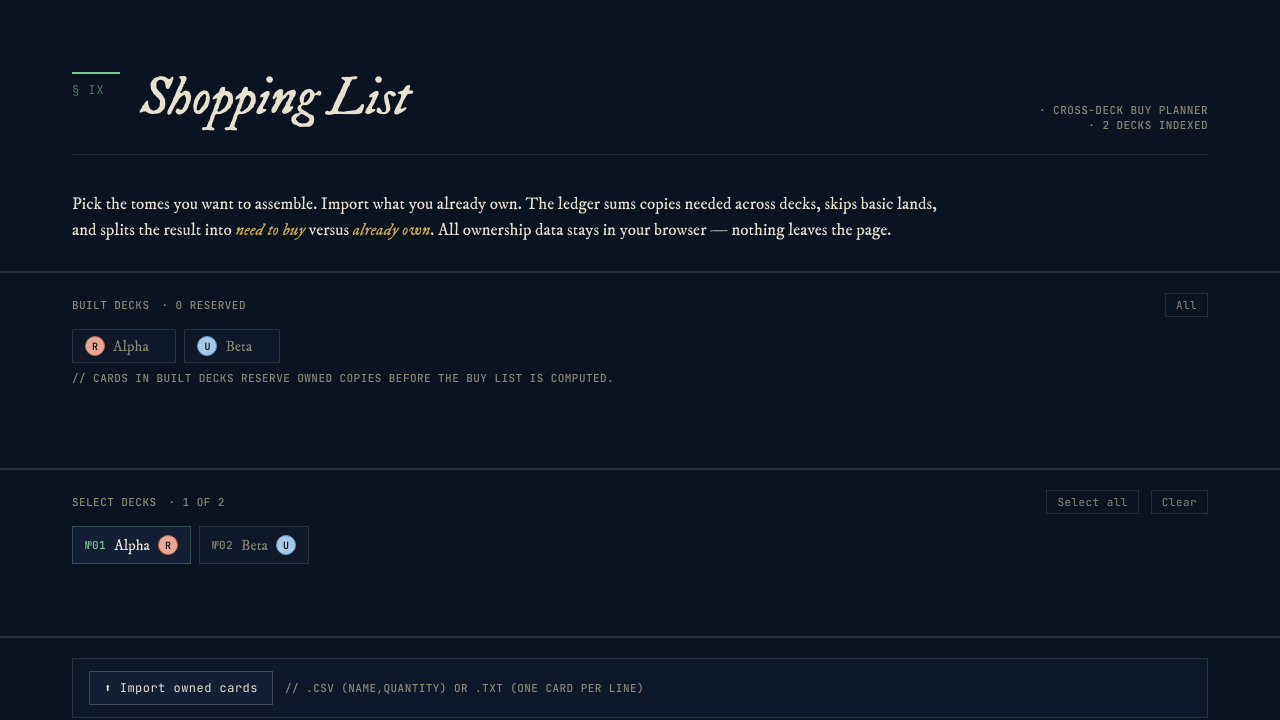
Test case: Shopping organism › selects all decks with the Select all action
The image size is (1280, 720).
Click the button "Select all". click: (1093, 502)
box: [1046,490,1139,514]
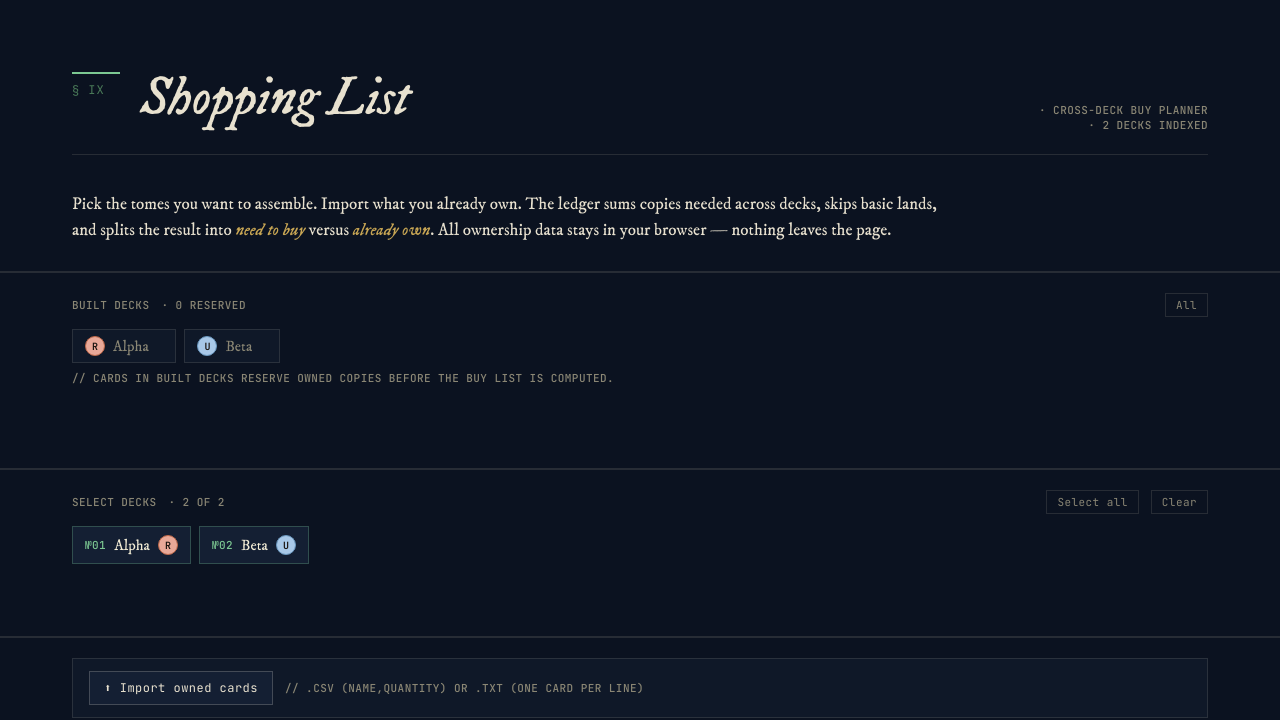
Check: the button with aria-label "Remove Alpha" is shown, box [72,526,191,564]
Check: the button with aria-label "Remove Beta" is shown, box [199,526,309,564]
